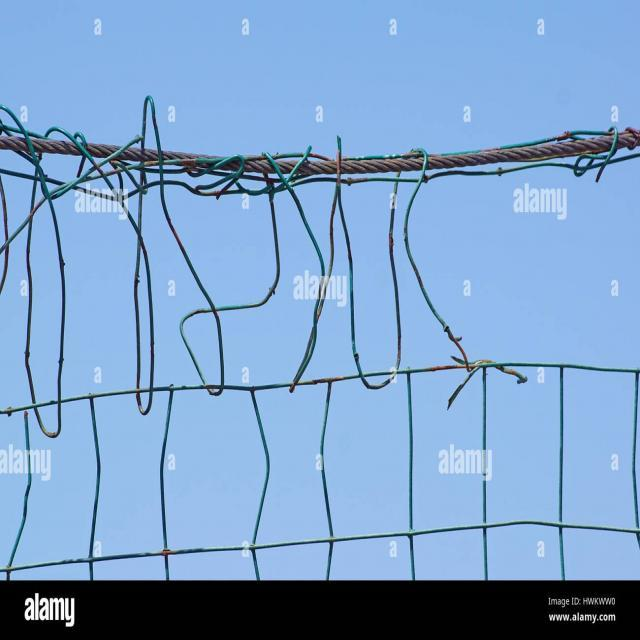fence line: (424, 156, 640, 382)
